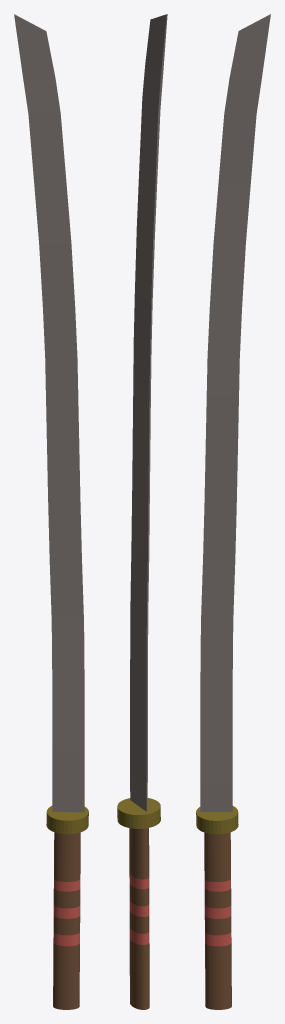
File: KatanaDrop.fbx
3 views of the same model, side by side, from view 1: azimuth 90°, elevation 25°; view 2: azimuth 210°, elevation 25°; view 3: azimuth 270°, elevation 25° (orthographic).
Parts seen in each view (by area): view 1: Cube; view 2: Cube; view 3: Cube.
Part boxes in pixels (x1,y1,x2,y2): Cube: (14,14,88,1009); Cube: (117,14,167,1009); Cube: (196,14,270,1009).
Bounding box in the file's own units: 15.07 × 385 × 26.28.
